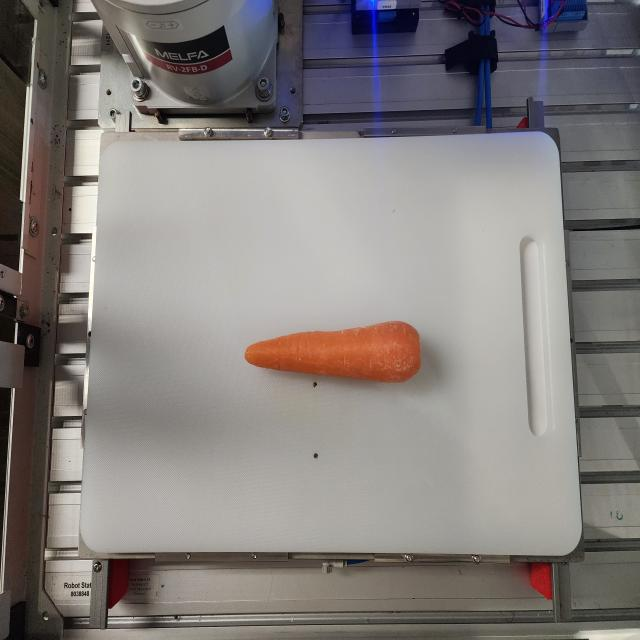carrot: (244, 320, 422, 384)
